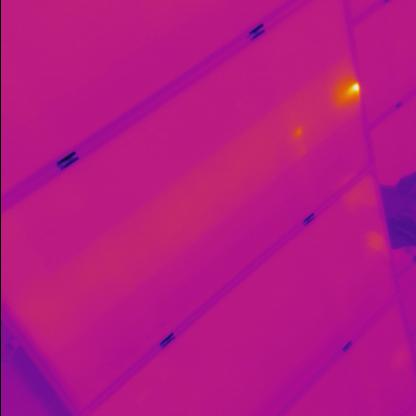hotspot: (338, 78, 362, 104)
